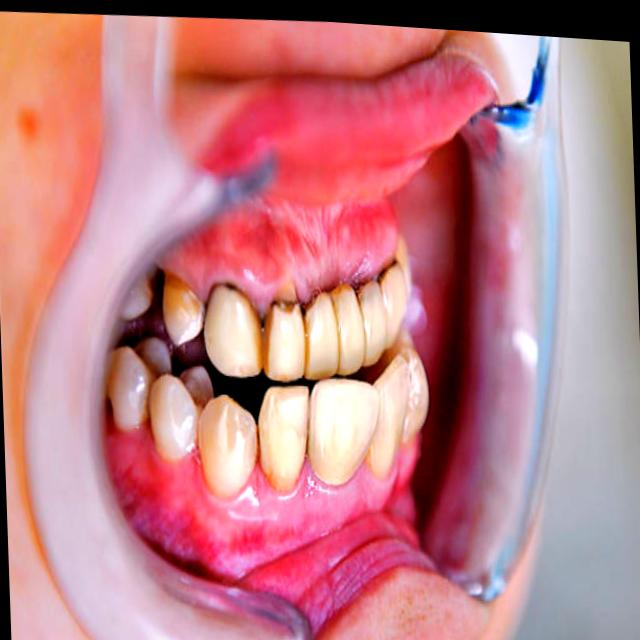calculus: (304, 260, 403, 309), (245, 297, 261, 370), (259, 436, 277, 490), (165, 274, 191, 310), (266, 304, 275, 369), (303, 310, 308, 378)
gingivitis: (114, 434, 417, 525), (162, 199, 396, 312)
